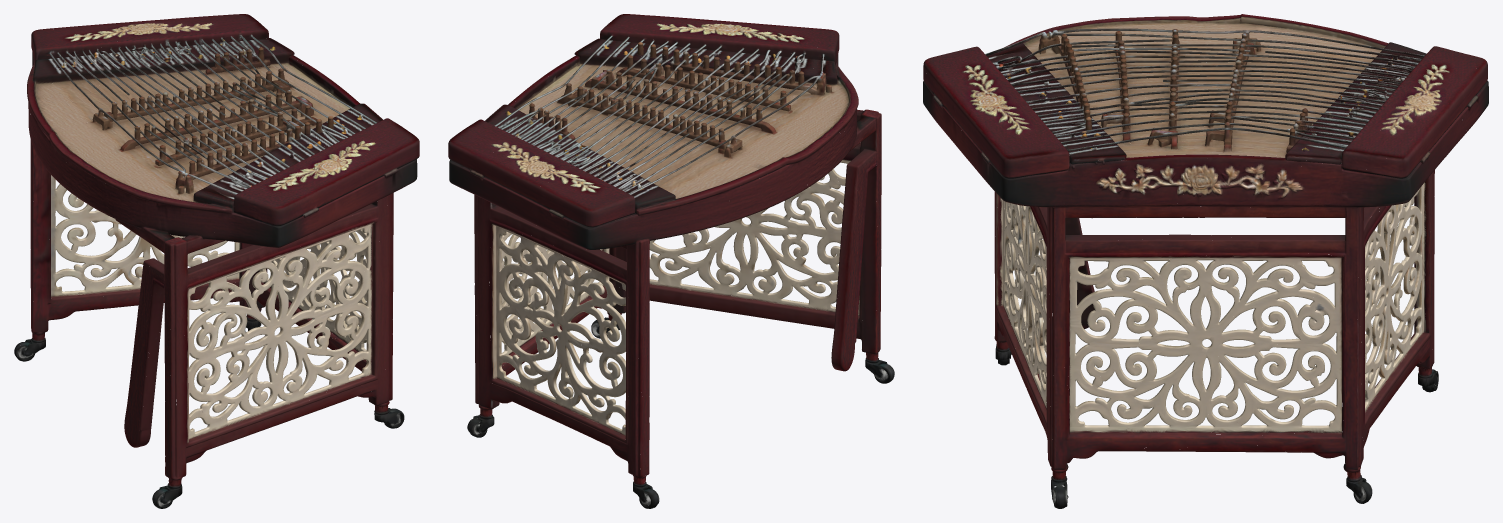
The model's file is yangqin.glb.
The picture shows the model from 3 angles, left to right: view 1: azimuth 30°, elevation 25°; view 2: azimuth 150°, elevation 25°; view 3: azimuth 270°, elevation 25°; orthographic projection. The views are drawn at different scales.
Visible parts, largest first — view 1: tripo_node_a2c5bb56-3b4f-45b8-ad01-c888f67dc77c; view 2: tripo_node_a2c5bb56-3b4f-45b8-ad01-c888f67dc77c; view 3: tripo_node_a2c5bb56-3b4f-45b8-ad01-c888f67dc77c.
Part boxes in pixels (bbox=[...]): tripo_node_a2c5bb56-3b4f-45b8-ad01-c888f67dc77c: bbox=[14, 14, 419, 508]; tripo_node_a2c5bb56-3b4f-45b8-ad01-c888f67dc77c: bbox=[448, 14, 894, 508]; tripo_node_a2c5bb56-3b4f-45b8-ad01-c888f67dc77c: bbox=[923, 14, 1488, 508].
Bounding box in the file's own units: 0.4522 × 0.4887 × 0.69.
1 material, 1 textured.
